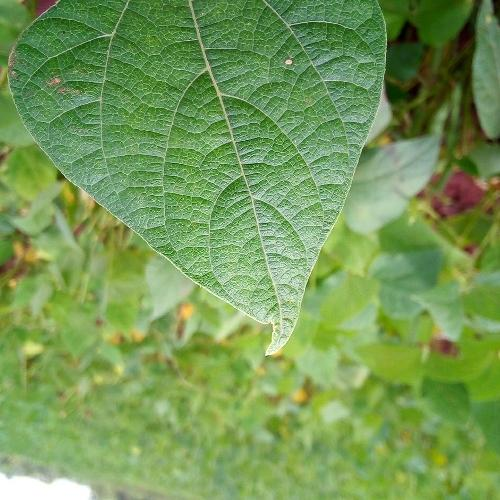hawar: (88, 33, 398, 386)
